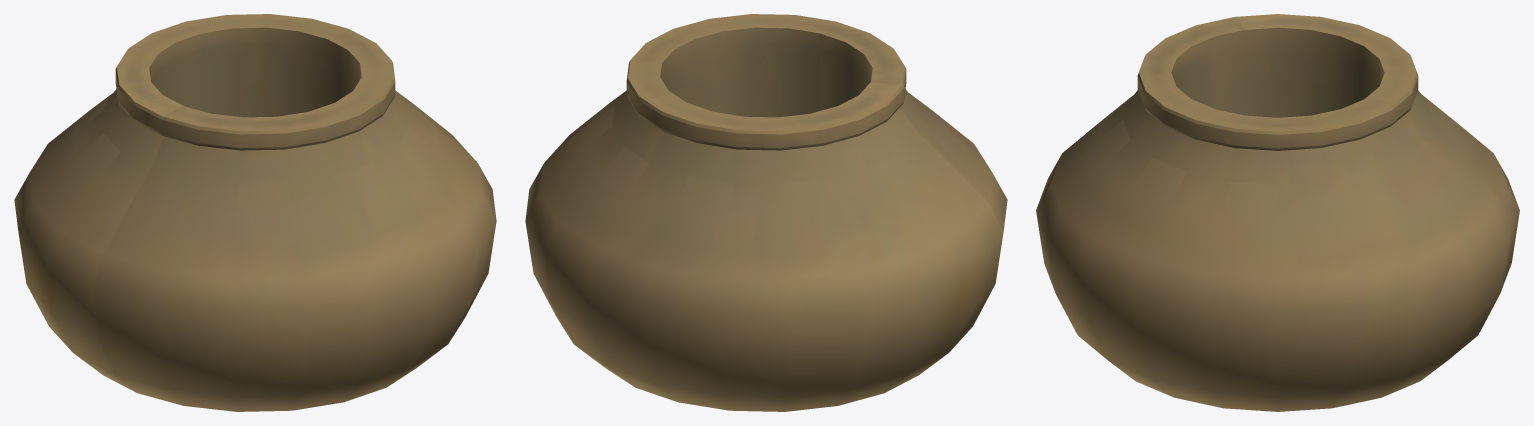
Rendered from MansionSpicePot_small.fbx.
3 renders of one model, left to right at view 1: azimuth 30°, elevation 25°; view 2: azimuth 150°, elevation 25°; view 3: azimuth 270°, elevation 25°, orthographic.
Parts seen in each view (by area): view 1: plantPot-Merged; view 2: plantPot-Merged; view 3: plantPot-Merged.
Boxes of the visible parts, bbox=[...] form: plantPot-Merged: bbox=[14, 14, 496, 411]; plantPot-Merged: bbox=[525, 14, 1007, 411]; plantPot-Merged: bbox=[1036, 14, 1519, 411].
Bounding box in the file's own units: 243 × 152 × 243.
Materials: 1 (1 with a texture image).
